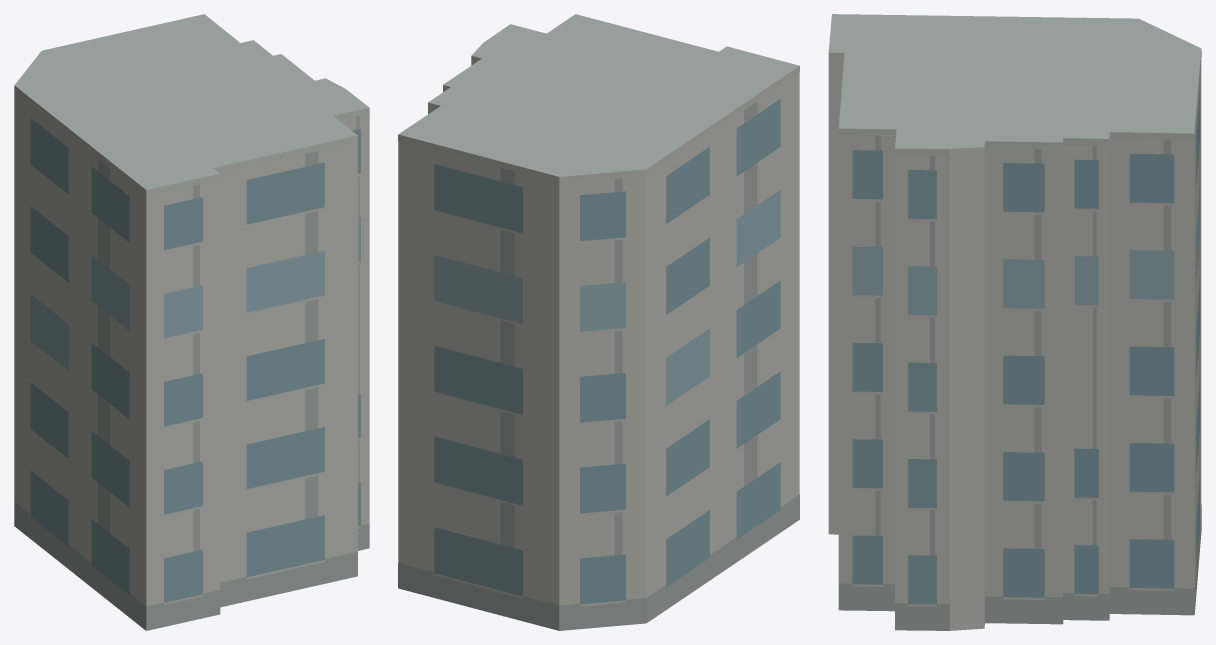
The model's file is survey-upis-32495403.glb.
The picture shows the model from 3 angles, left to right: view 1: azimuth 30°, elevation 25°; view 2: azimuth 150°, elevation 25°; view 3: azimuth 270°, elevation 25°; orthographic projection. The views are drawn at different scales.
Visible parts, largest first — view 1: survey-upis-32495403.tmp; view 2: survey-upis-32495403.tmp; view 3: survey-upis-32495403.tmp.
Boxes of the visible parts, x1,y1,x2,y2 form: survey-upis-32495403.tmp: [14, 14, 369, 630]; survey-upis-32495403.tmp: [398, 14, 799, 630]; survey-upis-32495403.tmp: [828, 14, 1201, 630].
Size of the model in its own units: 9.82 by 16.32 by 11.46.
